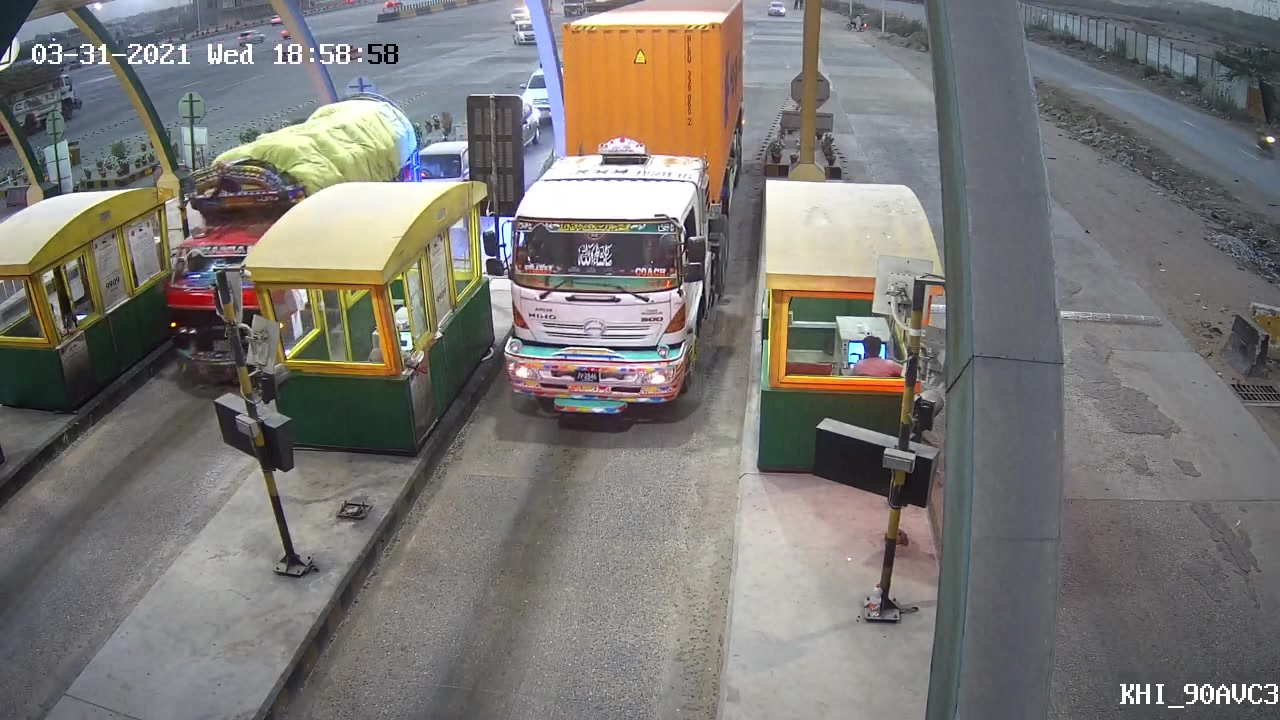F6: (471, 122, 736, 424)
